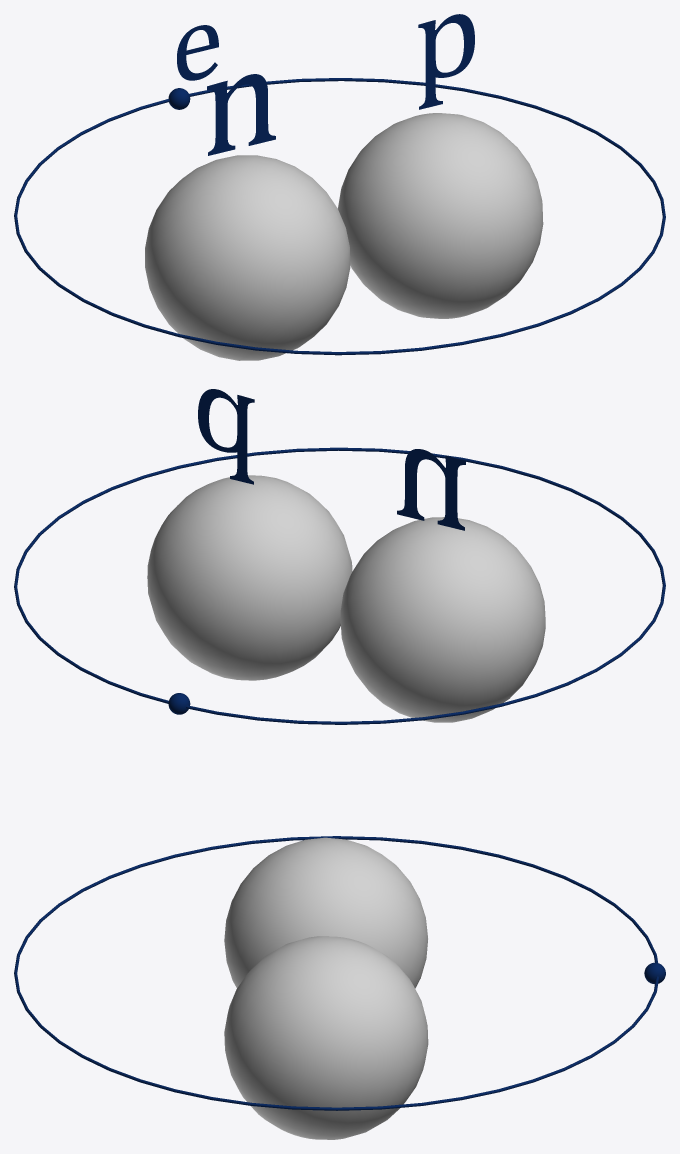
File: Deiterium.obj
3 renders of one model, top to bottom at view 1: azimuth 30°, elevation 25°; view 2: azimuth 150°, elevation 25°; view 3: azimuth 270°, elevation 25°, orthographic.
Parts seen in each view (by area): view 1: Sphere.008, Sphere.004, BézierCircle, Text, Text.001, Text.002; view 2: Sphere.008, Sphere.004, BézierCircle, Text, Text.001; view 3: Sphere.008, Sphere.004, BézierCircle.
Part boxes in pixels (x1,y1,x2,y2): Sphere.008: [338, 113, 543, 318]; Sphere.004: [145, 155, 350, 360]; BézierCircle: [14, 78, 665, 355]; Text: [207, 74, 275, 155]; Text.001: [418, 14, 474, 109]; Text.002: [177, 25, 218, 80]; Sphere.008: [147, 475, 352, 680]; Sphere.004: [340, 517, 545, 722]; BézierCircle: [14, 447, 665, 724]; Text: [397, 449, 465, 530]; Text.001: [198, 389, 254, 484]; Sphere.008: [224, 936, 428, 1139]; Sphere.004: [224, 837, 427, 988]; BézierCircle: [14, 836, 658, 1110].
Bounding box in the file's own units: 48.54 × 23.2 × 49.
